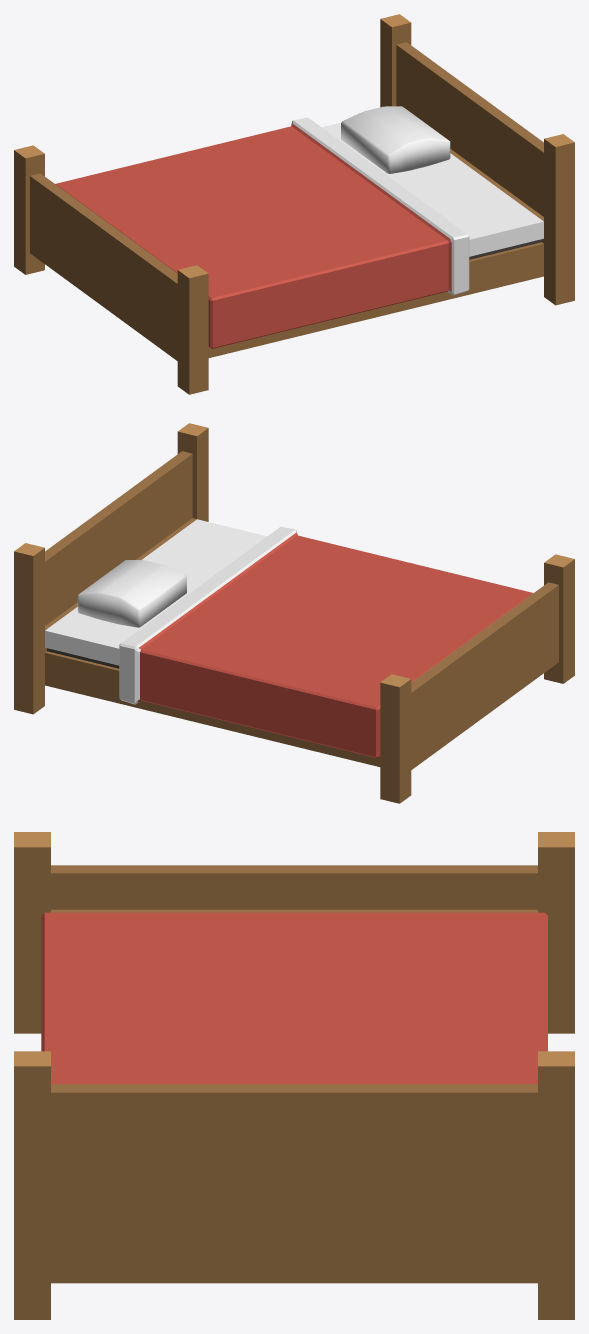
File: Bed.fbx
3 renders of one model, top to bottom at view 1: azimuth 30°, elevation 25°; view 2: azimuth 150°, elevation 25°; view 3: azimuth 270°, elevation 25°, orthographic. The views are drawn at different scales.
Parts seen in each view (by area): view 1: Cover, BedFrame, Pillow; view 2: Cover, BedFrame, Pillow; view 3: BedFrame, Cover.
Boxes of the visible parts, x1,y1,x2,y2 form: Cover: [55, 117, 469, 348]; BedFrame: [14, 14, 574, 394]; Pillow: [341, 106, 450, 174]; Cover: [119, 526, 533, 757]; BedFrame: [14, 423, 574, 803]; Pillow: [77, 560, 186, 627]; BedFrame: [14, 832, 574, 1319]; Cover: [41, 912, 547, 1084].
Bounding box in the file's own units: 3465 × 4403 × 1727.
